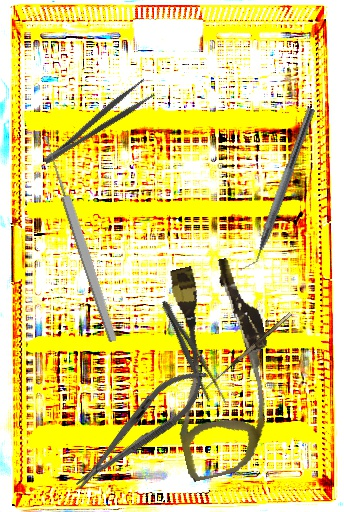Cannula: (143, 253, 294, 483)
Chopper: (238, 103, 316, 277)
Dressing Forceps: (36, 77, 156, 168), (154, 296, 230, 411)
Hook Surgical: (203, 311, 297, 395)
Needle Holder: (62, 355, 219, 502)
Surgical Spoon: (40, 133, 120, 344)
